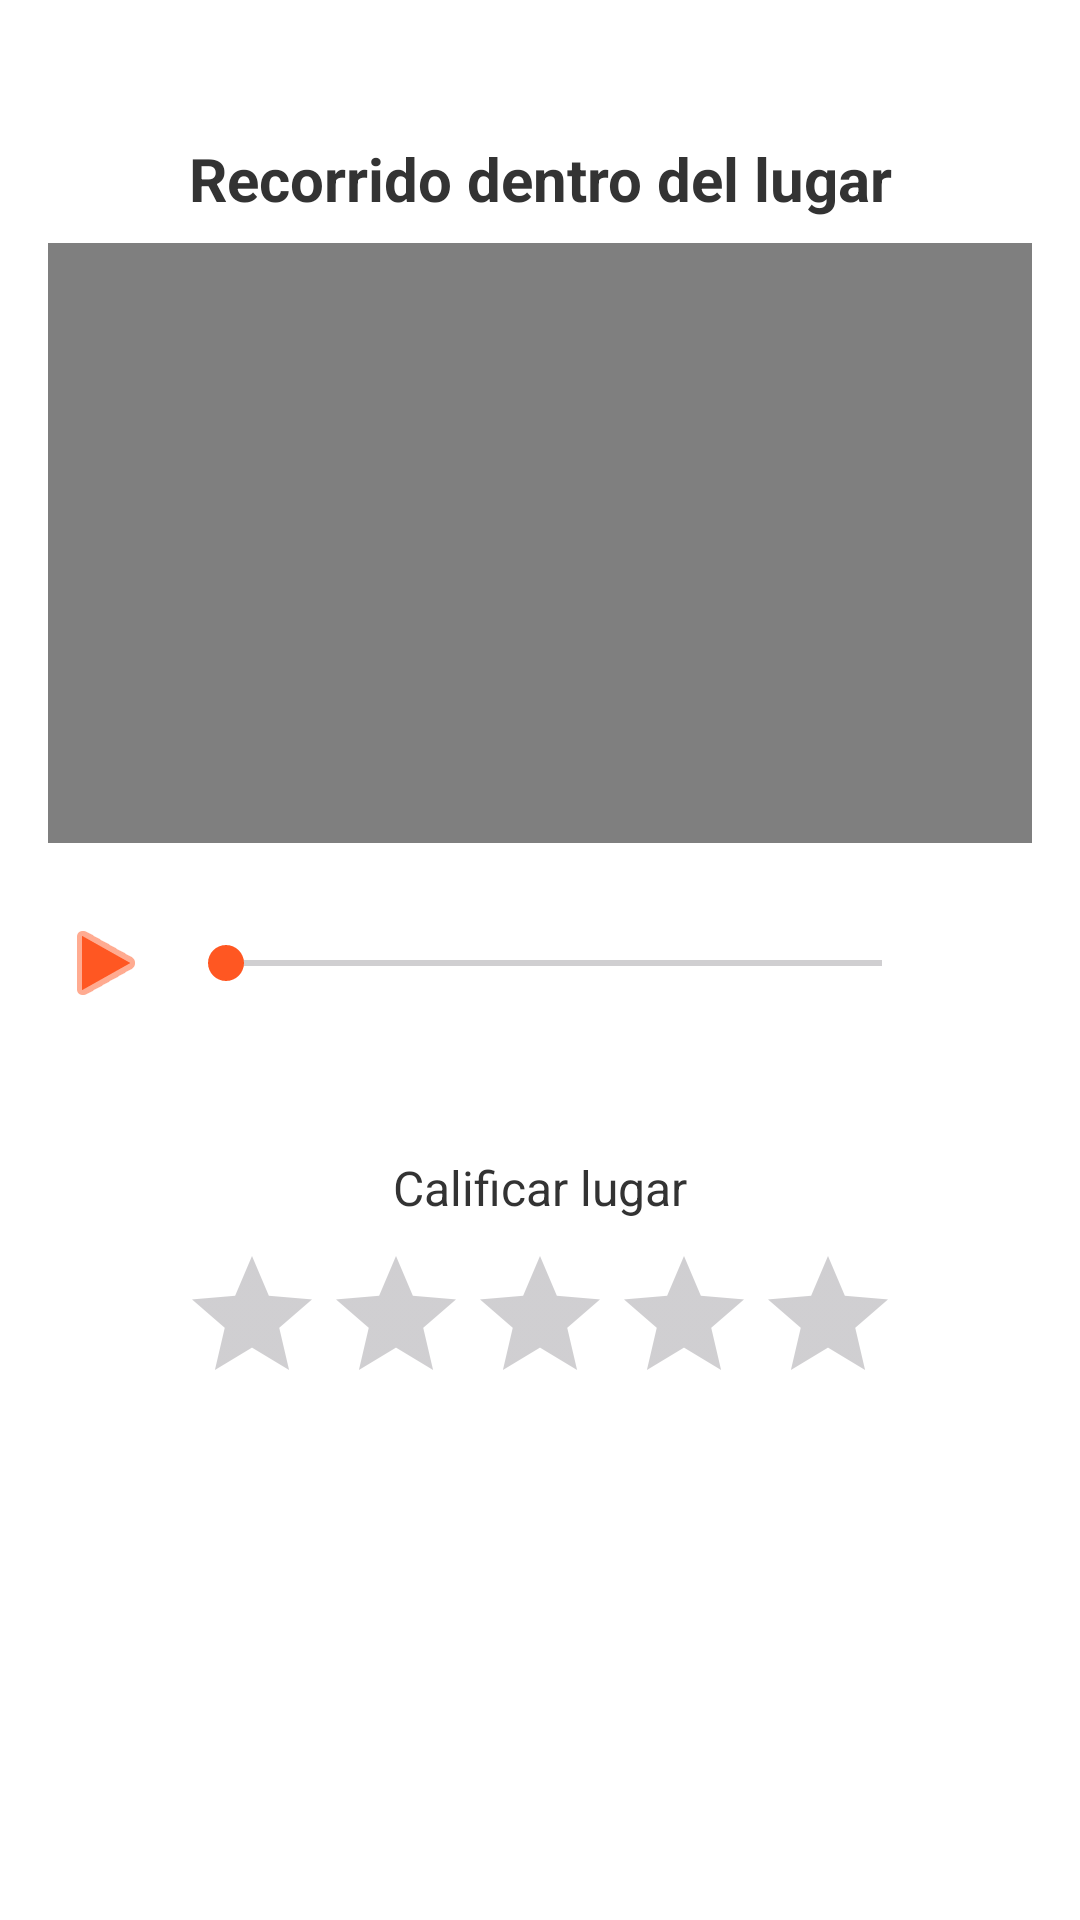

Where icons sit on this 1080 × 1920 app screen, as rect(x1, y1, x2, y2):
Reproducir/Pausar: rect(77, 931, 135, 995)
